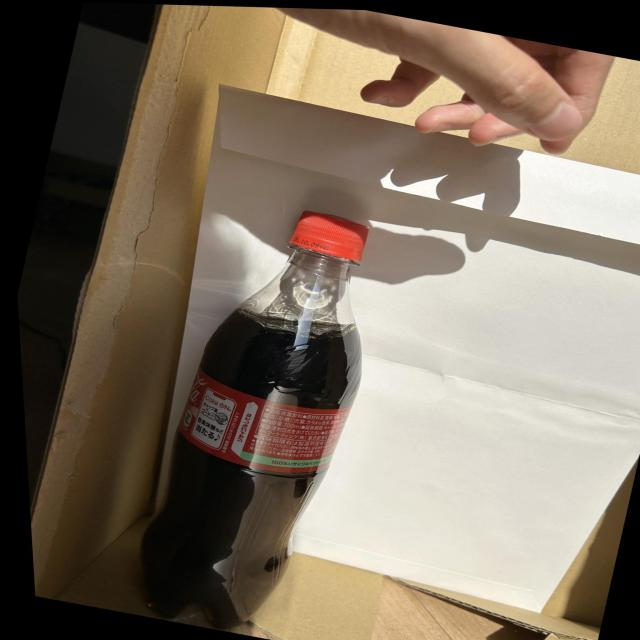high: (142, 211, 368, 628)
